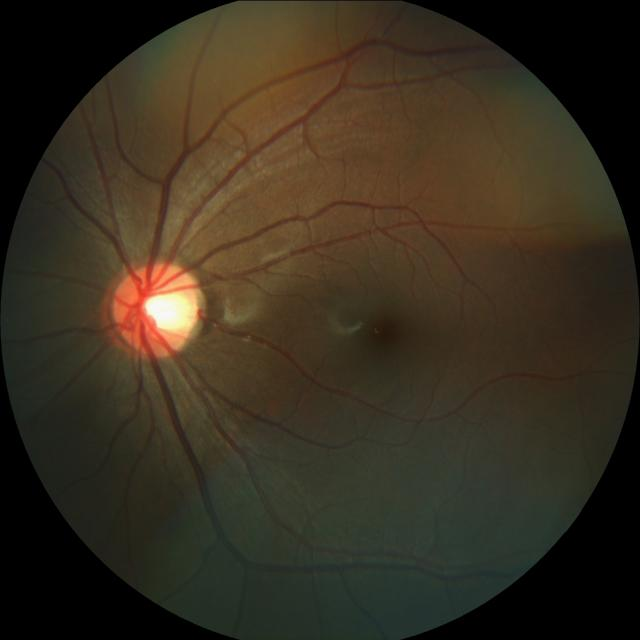OC: (141, 286, 193, 334)
OD: (111, 260, 200, 354)
